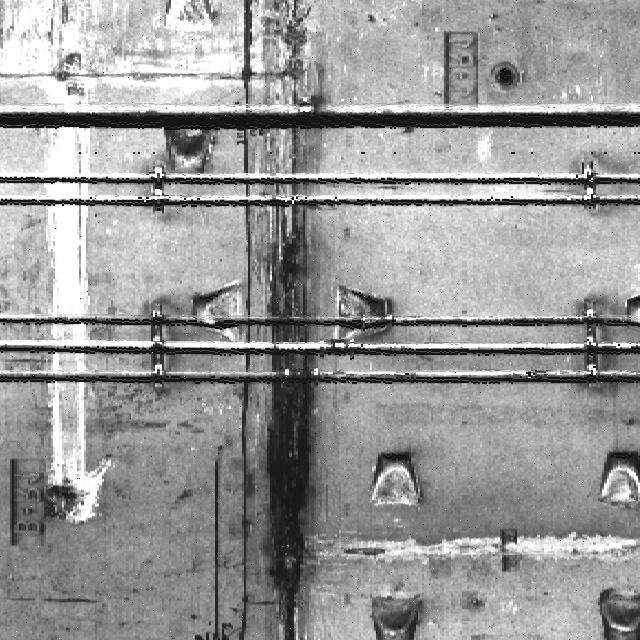leakage: (250, 5, 334, 639)
